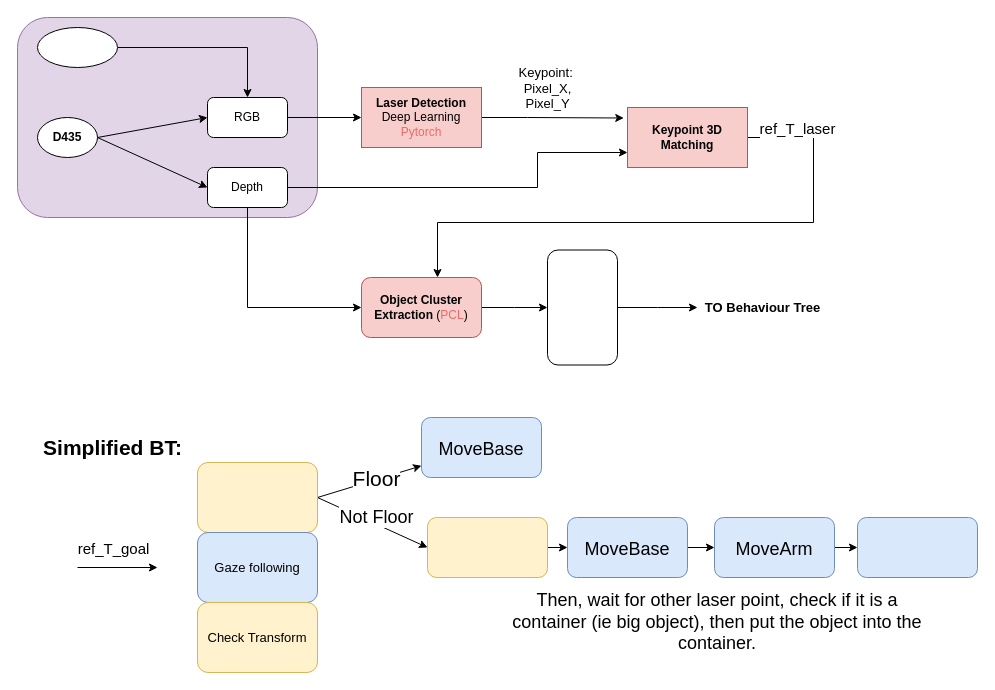
The diagram is 995 pixels wide and 690 high, and some of its shapes have lost their labels. The shapes that lost their labels are listed below. From the top down, each one's centre as x and y in pixels, then its label:
At pixel 77 47: "Laser".
At pixel 582 307: "Object Info: Transform [Type?] ...".
At pixel 257 497: "CheckGoal".
At pixel 487 547: "Is Reachable By Arm?".
At pixel 917 547: "Grasp".
